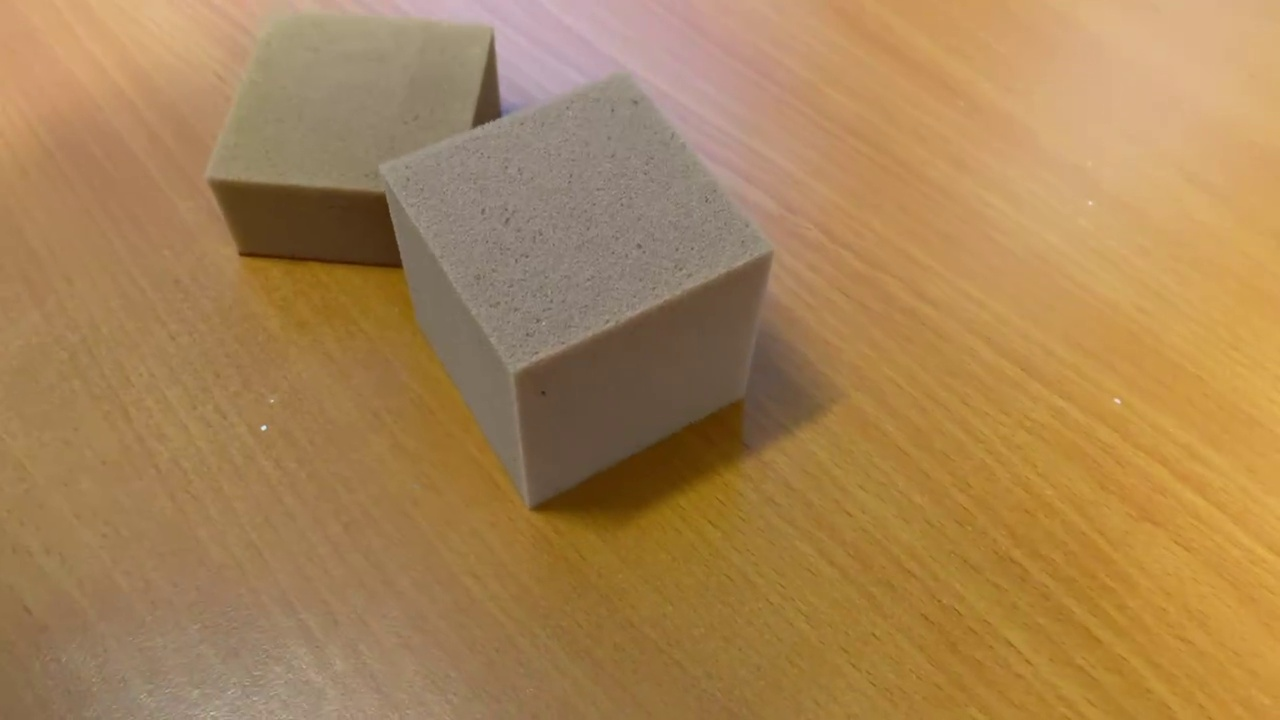Cube: (364, 66, 782, 516)
Cube_short: (207, 10, 498, 267)
